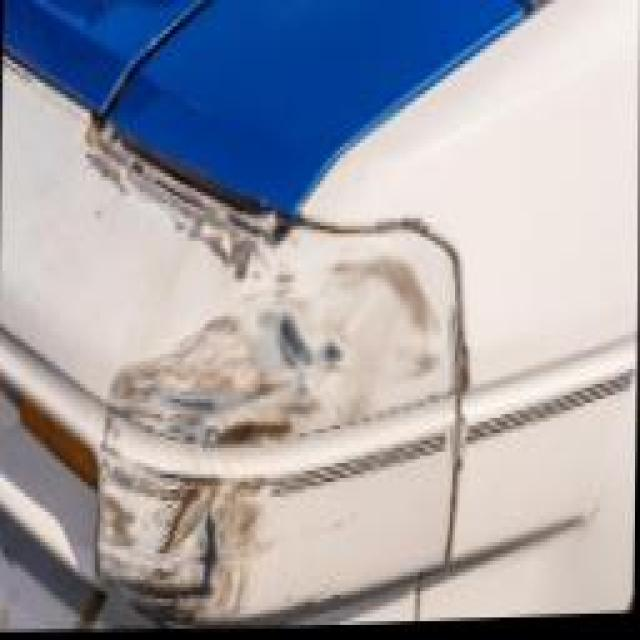Bumper: (0, 154, 519, 639)
